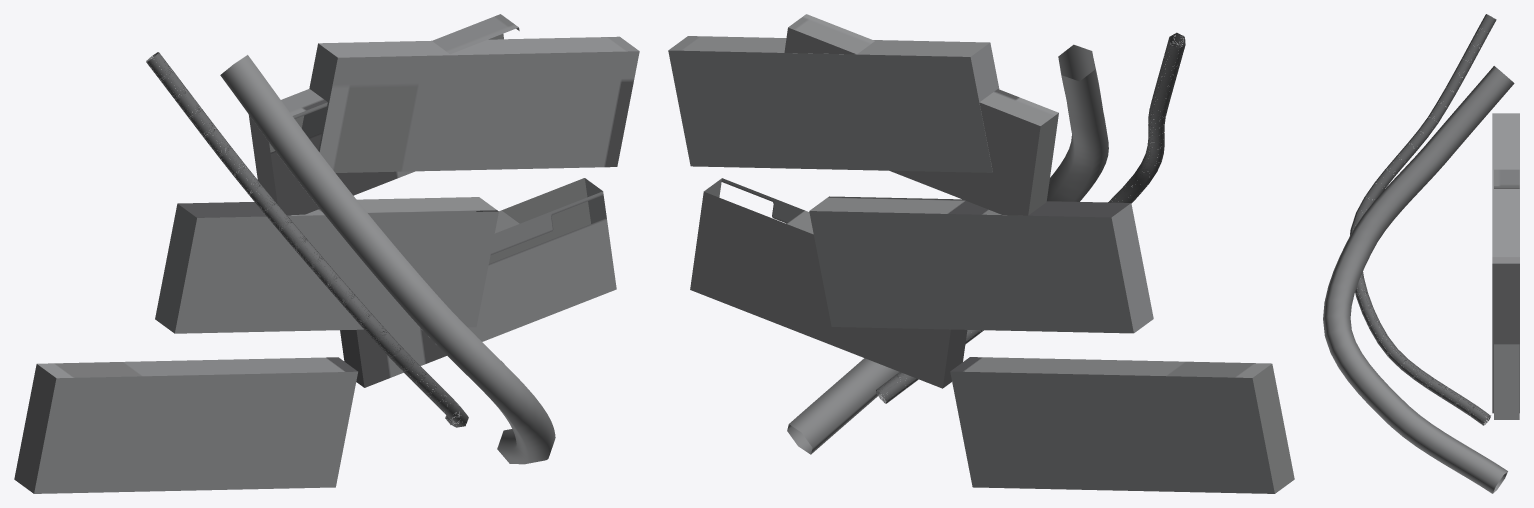
The picture shows the model from 3 angles, left to right: view 1: azimuth 30°, elevation 25°; view 2: azimuth 150°, elevation 25°; view 3: azimuth 270°, elevation 25°; orthographic projection. The views are drawn at different scales.
Bounding box in the file's own units: 1.05 × 0.8354 × 0.4224.
